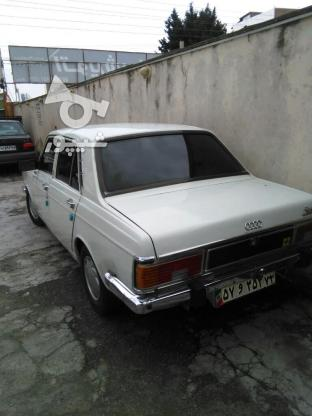car: (216, 269, 276, 305)
